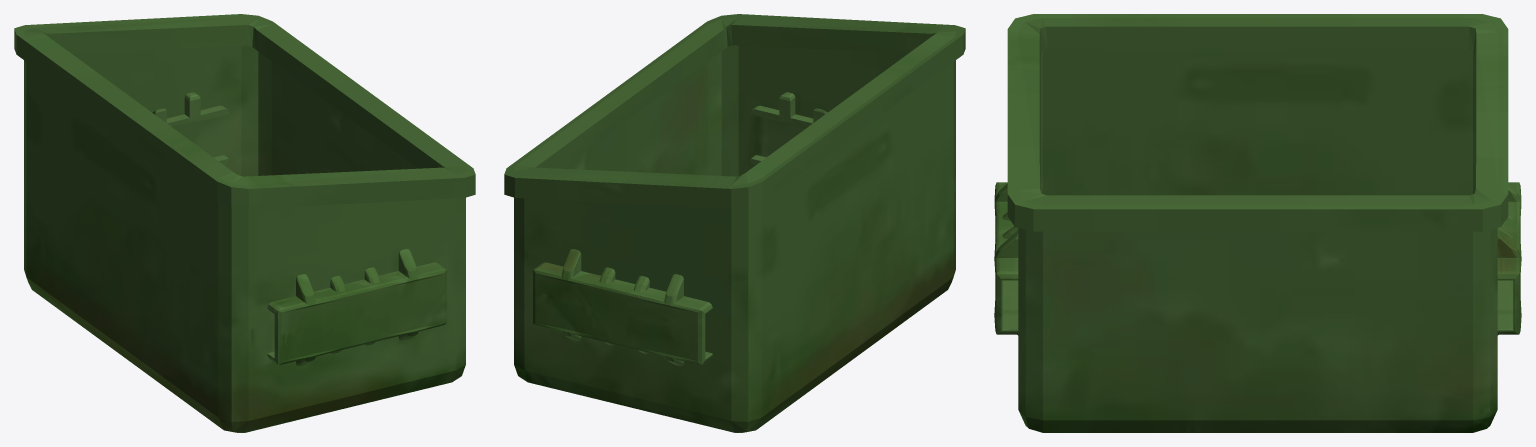
The model's file is strProp_18.glb.
3 renders of one model, left to right at view 1: azimuth 30°, elevation 25°; view 2: azimuth 150°, elevation 25°; view 3: azimuth 270°, elevation 25°, orthographic. The views are drawn at different scales.
Visible parts, largest first — view 1: geometry_0; view 2: geometry_0; view 3: geometry_0.
Part boxes in pixels (bbox=[...]): geometry_0: bbox=[14, 14, 475, 432]; geometry_0: bbox=[504, 14, 965, 432]; geometry_0: bbox=[994, 14, 1521, 432].
Size of the model in its own units: 1.34 by 1.3 by 2.13.
1 material, 1 textured.
